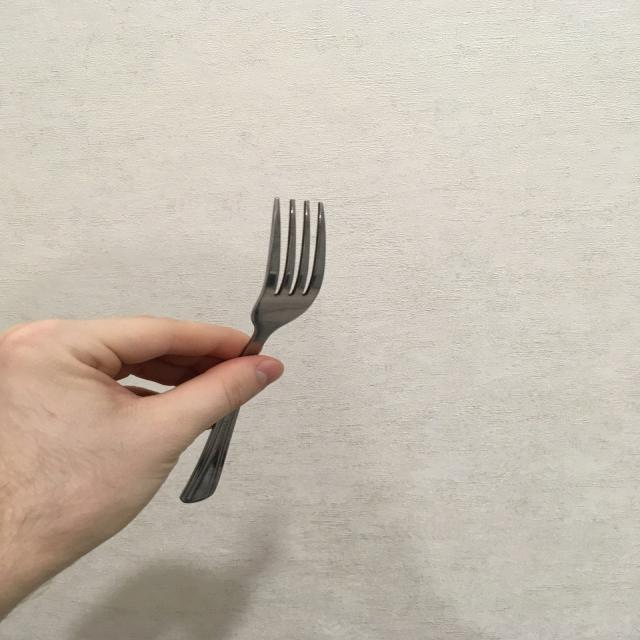fork: (181, 194, 328, 504)
